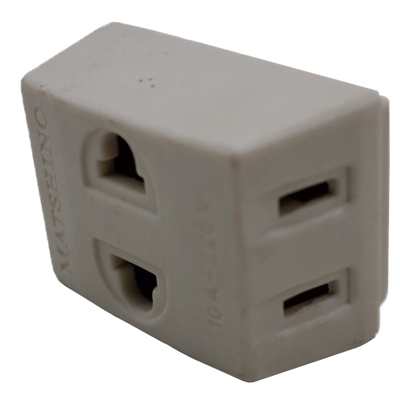Three_eye_plug: (13, 16, 390, 391)
